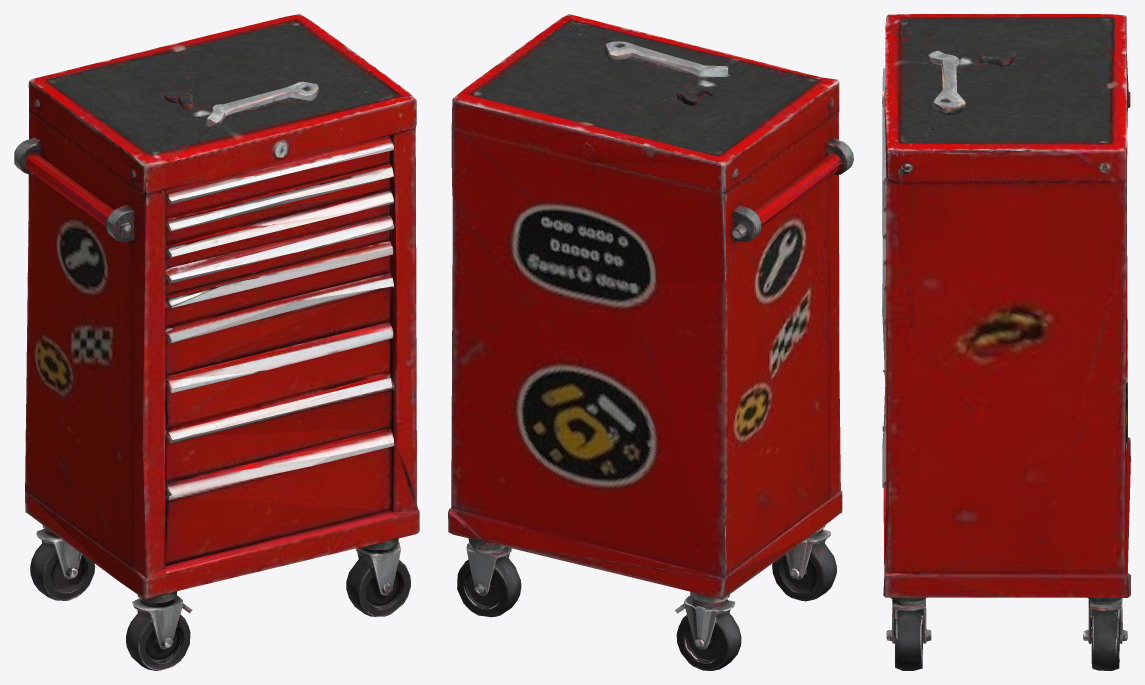
File: chest.glb
3 views of the same model, side by side, from view 1: azimuth 30°, elevation 25°; view 2: azimuth 150°, elevation 25°; view 3: azimuth 270°, elevation 25° (orthographic). The views are drawn at different scales.
Bounding box in the file's own units: 1.12 × 1.9 × 0.7879.
Materials: 1 (1 with a texture image).
